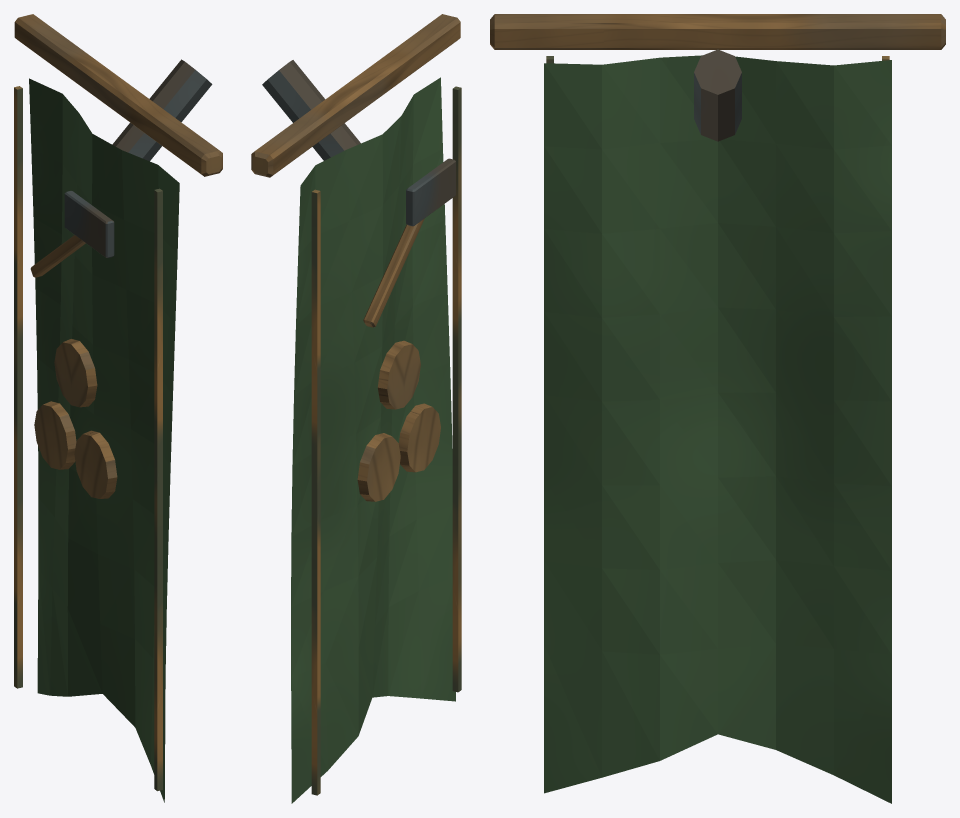
The model's file is b16_banner.fbx.
3 renders of one model, left to right at view 1: azimuth 30°, elevation 25°; view 2: azimuth 150°, elevation 25°; view 3: azimuth 270°, elevation 25°, orthographic. The views are drawn at different scales.
Visible parts, largest first — view 1: b16_banner; view 2: b16_banner; view 3: b16_banner.
Boxes of the visible parts, left/top/right/bottom form: b16_banner: left=14, top=14, right=222, bottom=802; b16_banner: left=251, top=14, right=461, bottom=803; b16_banner: left=490, top=14, right=945, bottom=803.
Size of the model in its own units: 3375 by 7600 by 14691.
